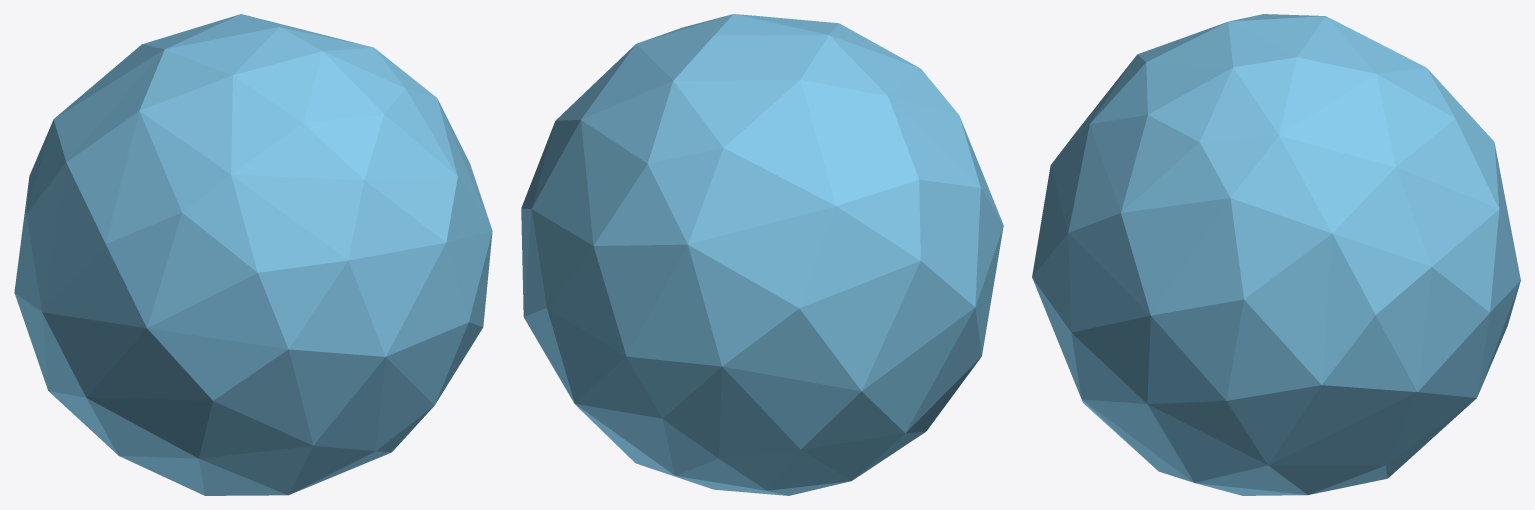
File: lowpoly_sphere.fbx
The picture shows the model from 3 angles, left to right: view 1: azimuth 30°, elevation 25°; view 2: azimuth 150°, elevation 25°; view 3: azimuth 270°, elevation 25°; orthographic projection.
Parts seen in each view (by area): view 1: Sphere; view 2: Sphere; view 3: Sphere.
Boxes of the visible parts, x1,y1,x2,y2 form: Sphere: [14, 14, 492, 495]; Sphere: [521, 14, 1003, 495]; Sphere: [1032, 14, 1520, 495].
Bounding box in the file's own units: 25.07 × 24.72 × 25.01.
